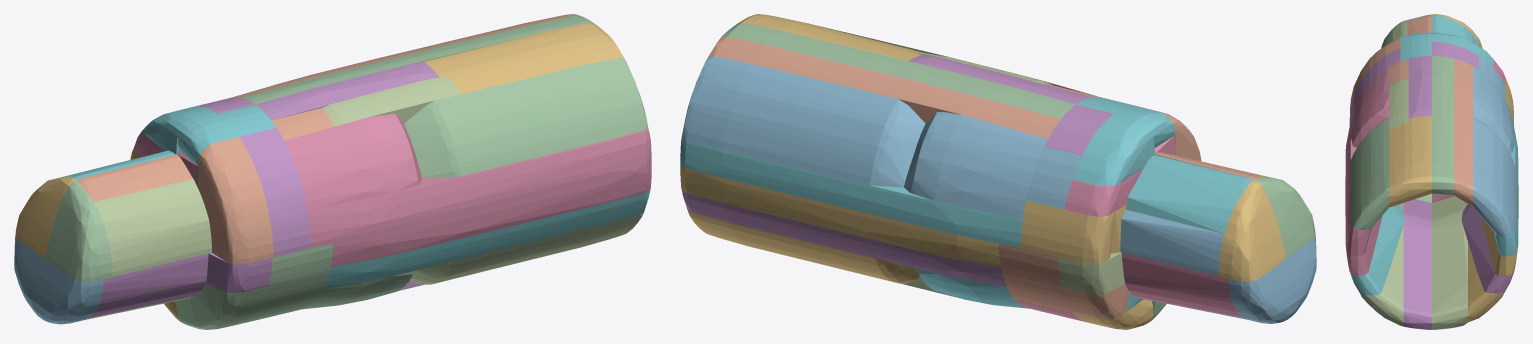
Rendered from glue_stick_collision.glb.
The picture shows the model from 3 angles, left to right: view 1: azimuth 30°, elevation 25°; view 2: azimuth 150°, elevation 25°; view 3: azimuth 270°, elevation 25°; orthographic projection. The views are drawn at different scales.
Visible parts, largest first — view 1: world; view 2: world; view 3: world.
Boxes of the visible parts, <box> form: world: <box>14,14,651,329</box>; world: <box>680,14,1316,329</box>; world: <box>1345,14,1518,329</box>.
Bounding box in the file's own units: 0.1256 × 0.0452 × 0.0452.
